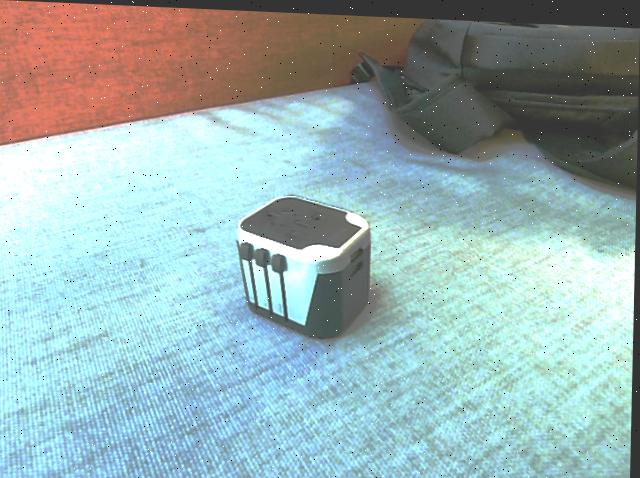adapter: (234, 190, 373, 338)
